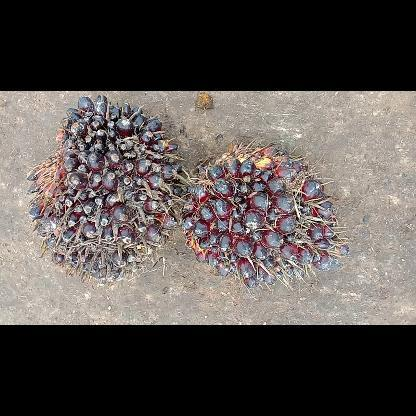TBS mentah: (25, 94, 183, 282), (186, 142, 356, 292)
